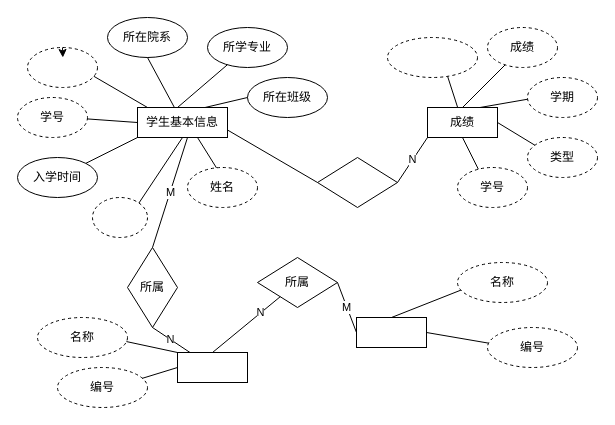
Some shapes in this 615 by 425 pixel diagram are drawn without their labels. The shapes that lost their labels are listed below. From the top down, each one's centre as x and y in pixels, then its label:
At (62,67): "性别".
At (432,57): "课程名".
At (357,182): "所得".
At (120,217): "学制".
At (391,332): "专业".
At (212,367): "学院".
